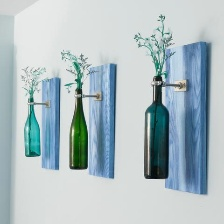bottle: (140, 74, 172, 181), (67, 87, 90, 173), (20, 93, 42, 161)
